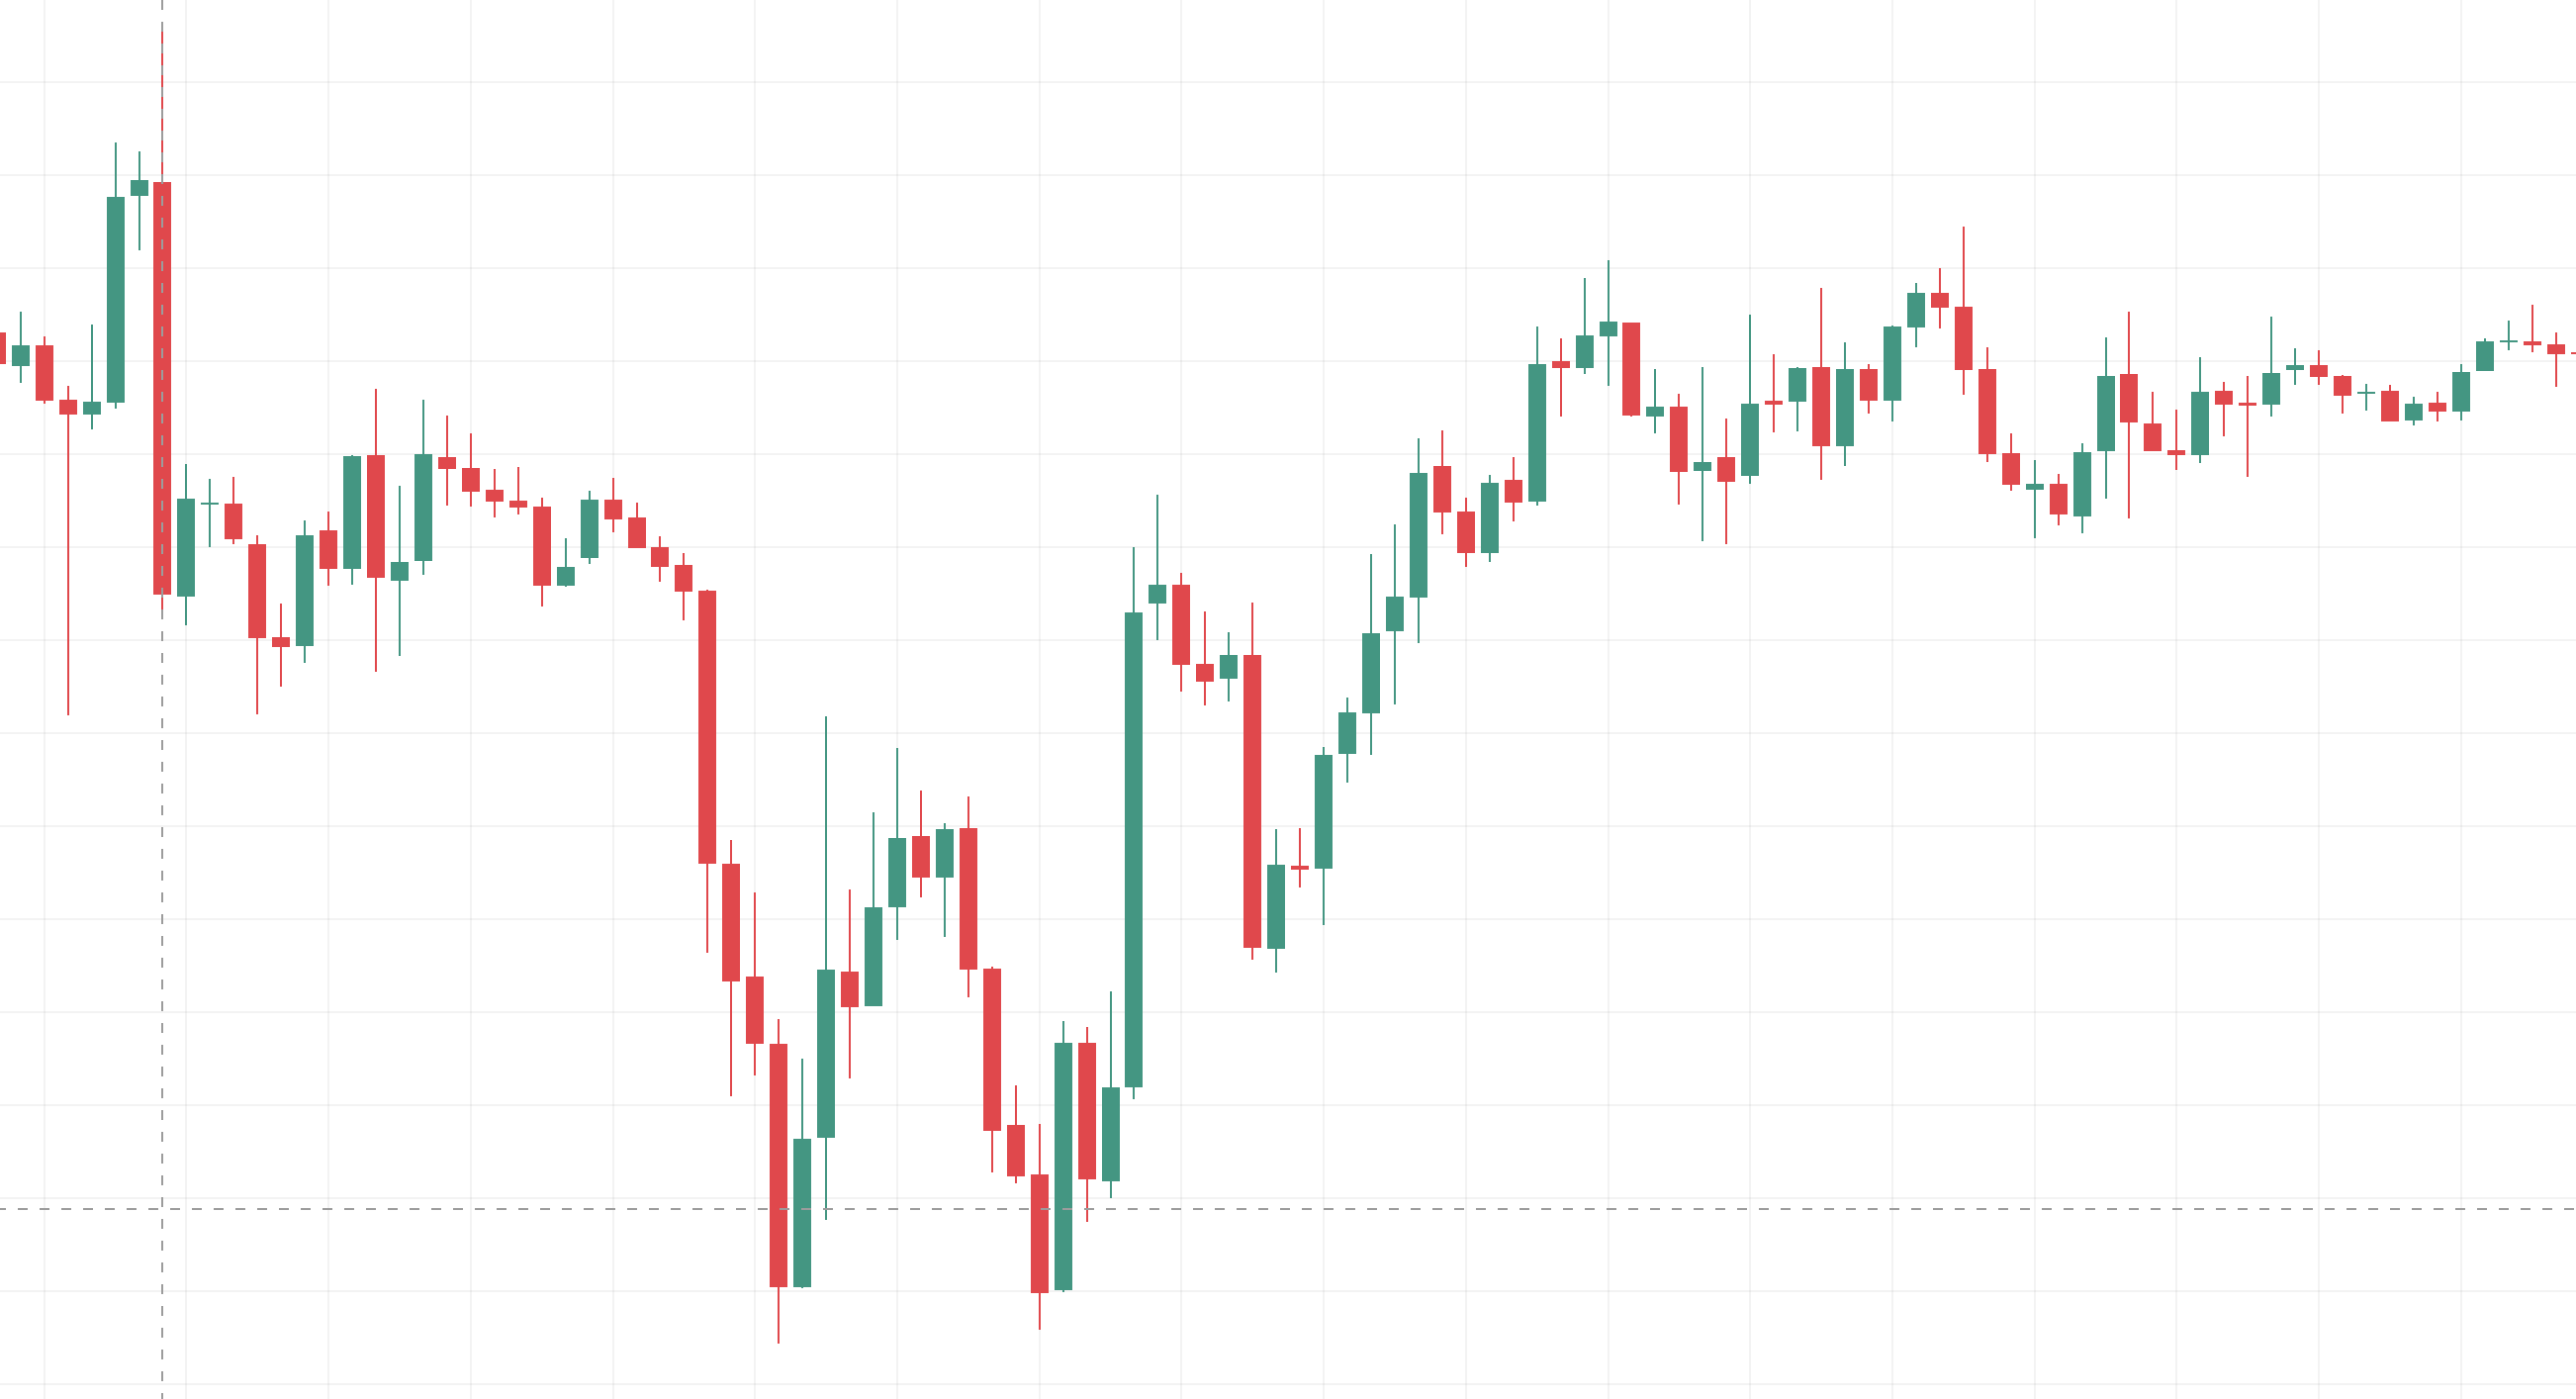V-turn: (487, 288, 926, 1361)
